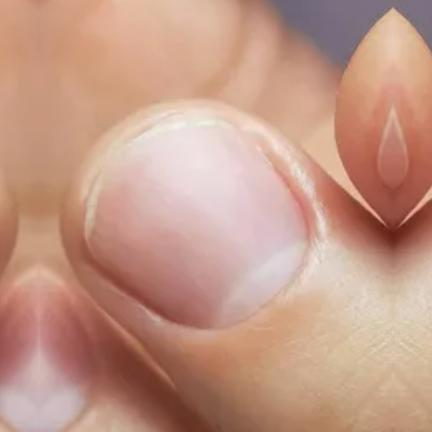Nail: (81, 110, 308, 330)
